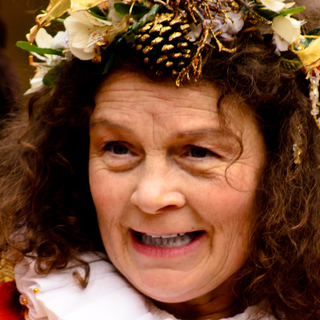eye: (174, 140, 224, 165), (100, 138, 141, 164)
